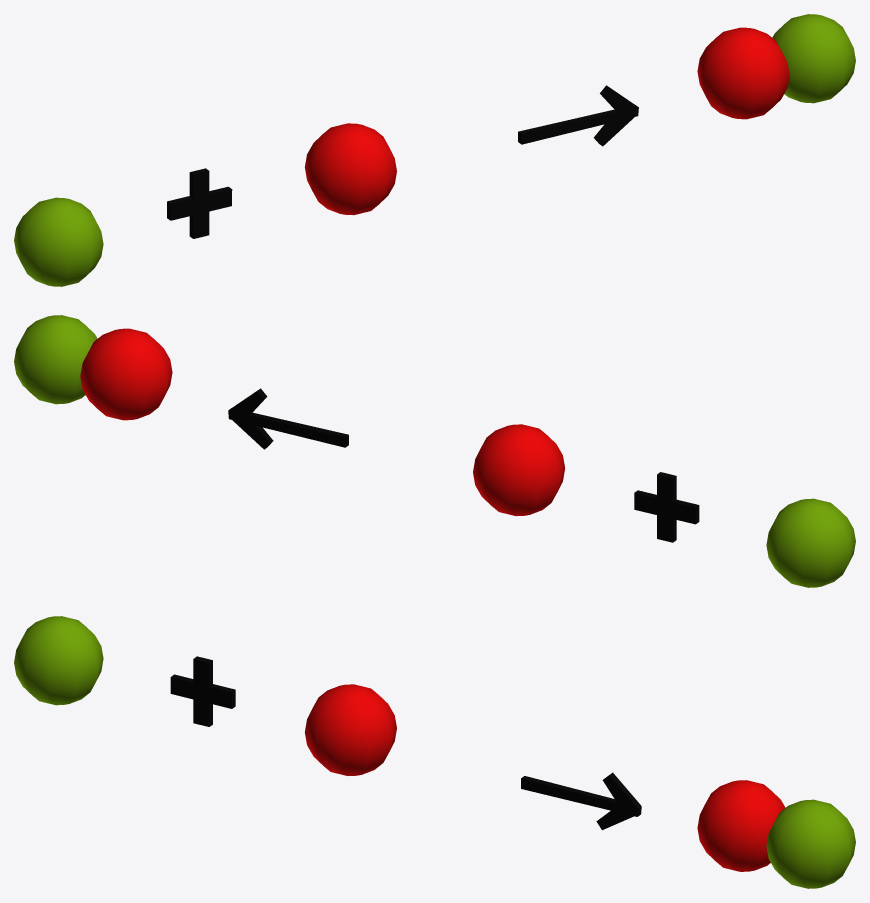
Rendered from com.fbx.
3 views of the same model, one above another, from view 1: azimuth 30°, elevation 25°; view 2: azimuth 150°, elevation 25°; view 3: azimuth 330°, elevation 25° (orthographic).
Parts seen in each view (by area): view 1: combination; view 2: combination; view 3: combination.
Part boxes in pixels (x1,y1,x2,y2): combination: (14,14,855,286); combination: (14,315,855,587); combination: (14,616,855,888).
Bounding box in the file's own units: 148 × 14.39 × 13.61.
